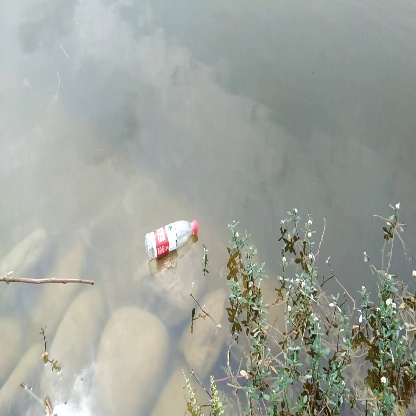bottle: (142, 216, 201, 265)
